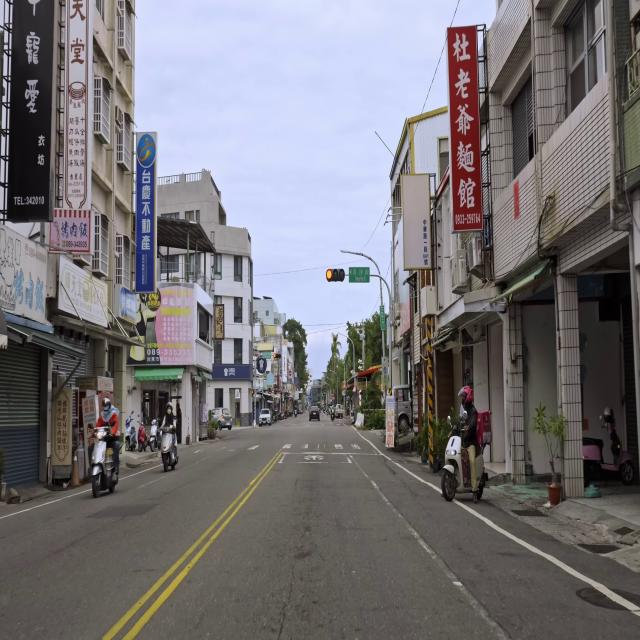red light: (326, 268, 346, 282), (273, 353, 281, 359)
